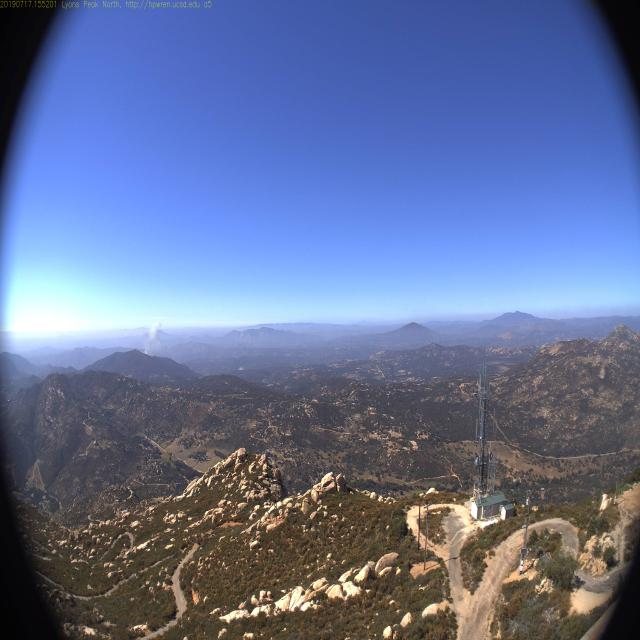smoke: (137, 318, 168, 372)
